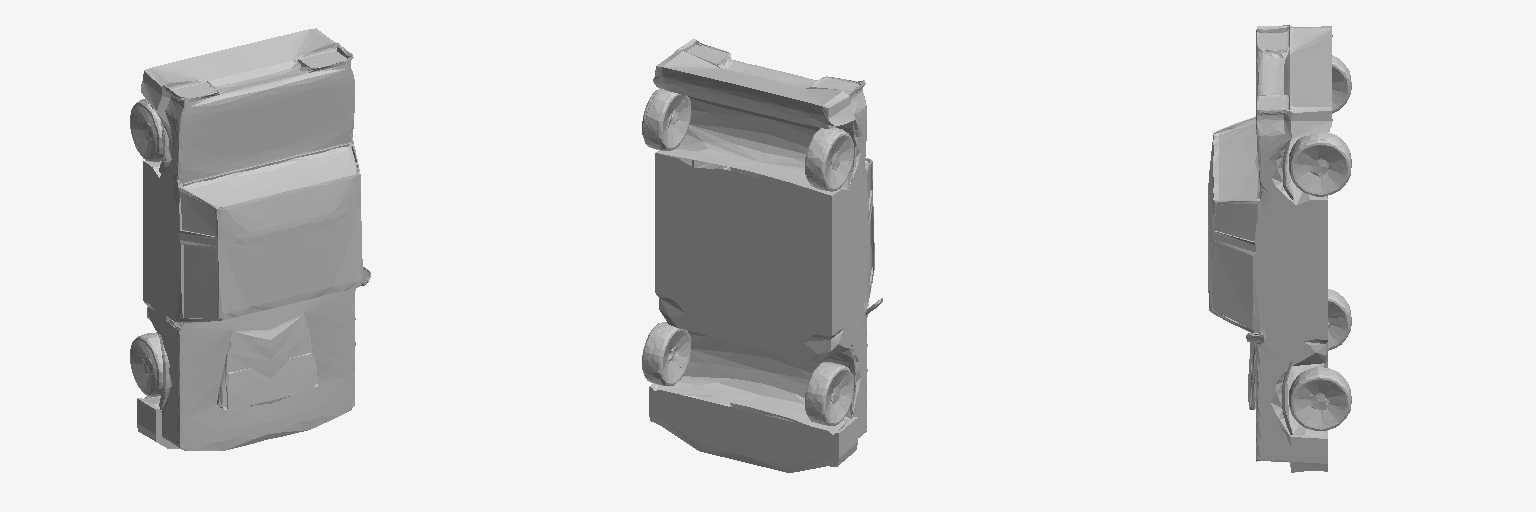
File: autocolor1.obj
3 views of the same model, side by side, from view 1: azimuth 30°, elevation 25°; view 2: azimuth 150°, elevation 25°; view 3: azimuth 270°, elevation 25° (orthographic).
Parts seen in each view (by area): view 1: Cube; view 2: Cube; view 3: Cube.
Boxes of the visible parts, x1=… form: Cube: x1=130, y1=28, x2=370, y2=450; Cube: x1=642, y1=39, x2=882, y2=472; Cube: x1=1208, y1=25, x2=1351, y2=472.
Bounding box in the file's own units: 4.59 × 8.32 × 2.87.